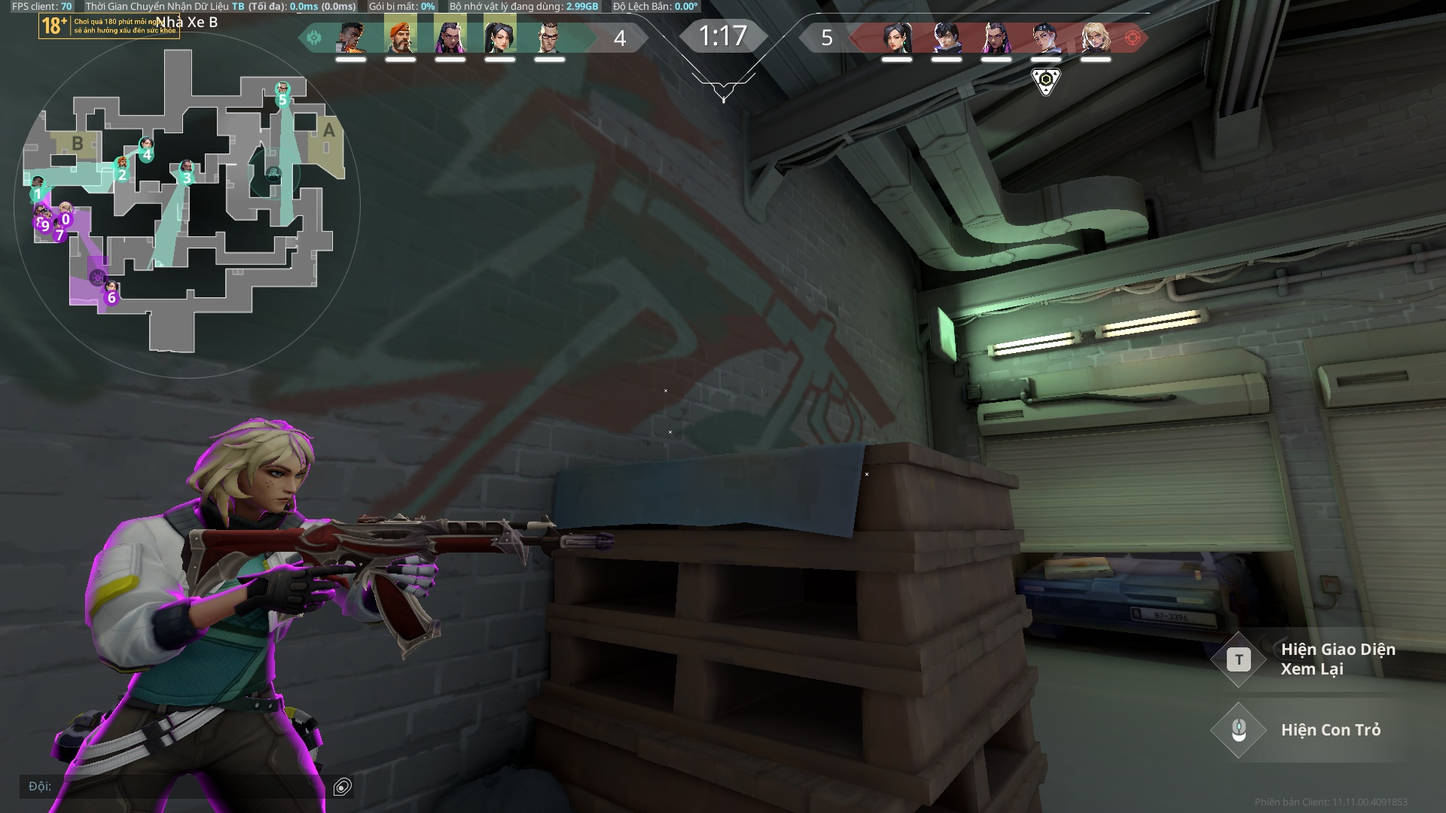body: (128, 492, 314, 707)
head: (201, 414, 305, 510)
